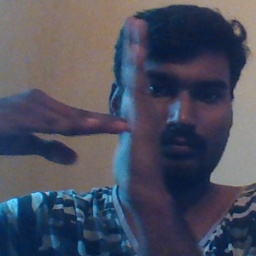Z: (35, 13, 168, 195)
